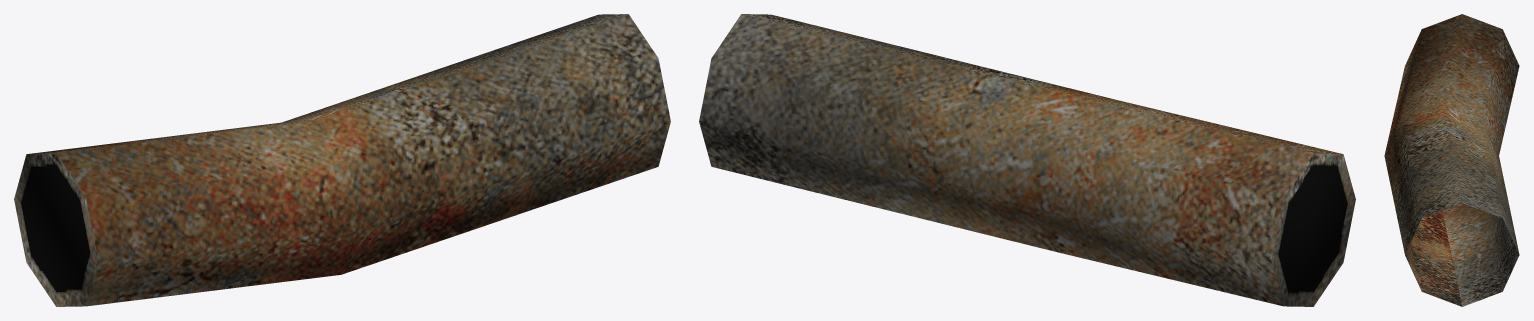
Rendered from props2_2.fbx.
3 renders of one model, left to right at view 1: azimuth 30°, elevation 25°; view 2: azimuth 150°, elevation 25°; view 3: azimuth 270°, elevation 25°, orthographic. The views are drawn at different scales.
Visible parts, largest first — view 1: Dino_props_2_low_002; view 2: Dino_props_2_low_002; view 3: Dino_props_2_low_002.
Part boxes in pixels (x1,y1,x2,y2): Dino_props_2_low_002: (14,14,670,306); Dino_props_2_low_002: (699,14,1355,306); Dino_props_2_low_002: (1384,14,1519,306).
Size of the model in its own units: 3.08 by 0.8715 by 0.9313.
